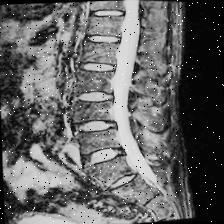disc: (97, 170, 148, 192), (80, 144, 124, 168), (90, 3, 128, 21), (89, 31, 124, 48), (80, 58, 116, 74)
hdisc: (71, 113, 122, 139), (71, 82, 117, 108)
